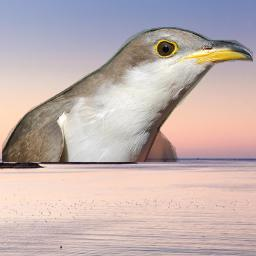Cuckoo: (2, 27, 253, 162)
